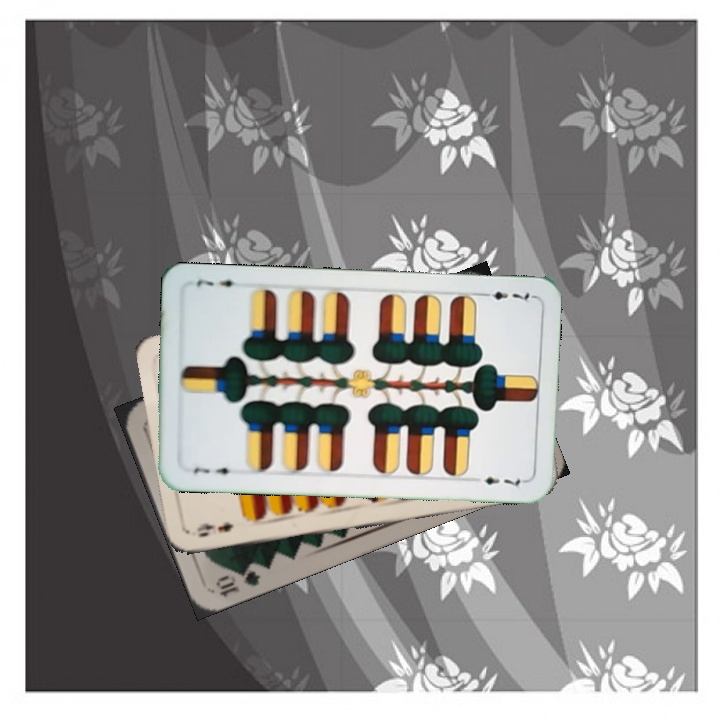E7: (476, 287, 535, 303), (190, 463, 239, 478)
E9: (193, 518, 236, 540)
G10: (211, 562, 263, 600)
